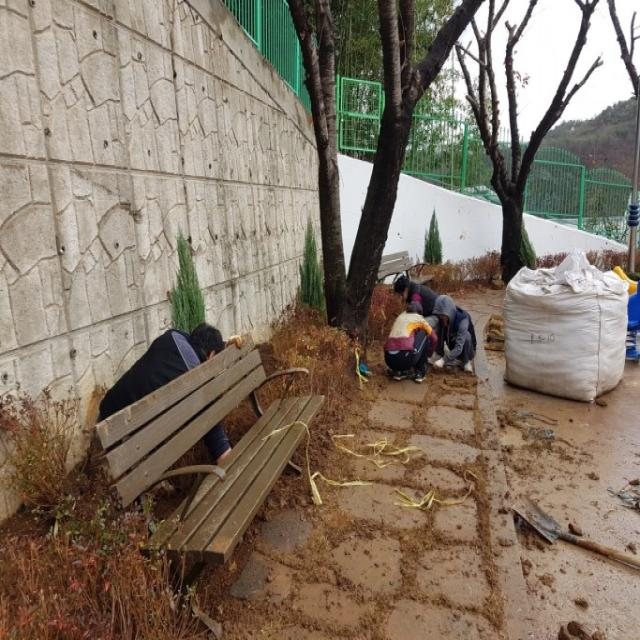plant: (285, 0, 486, 342), (170, 225, 206, 333), (295, 212, 323, 310), (422, 208, 443, 264)
